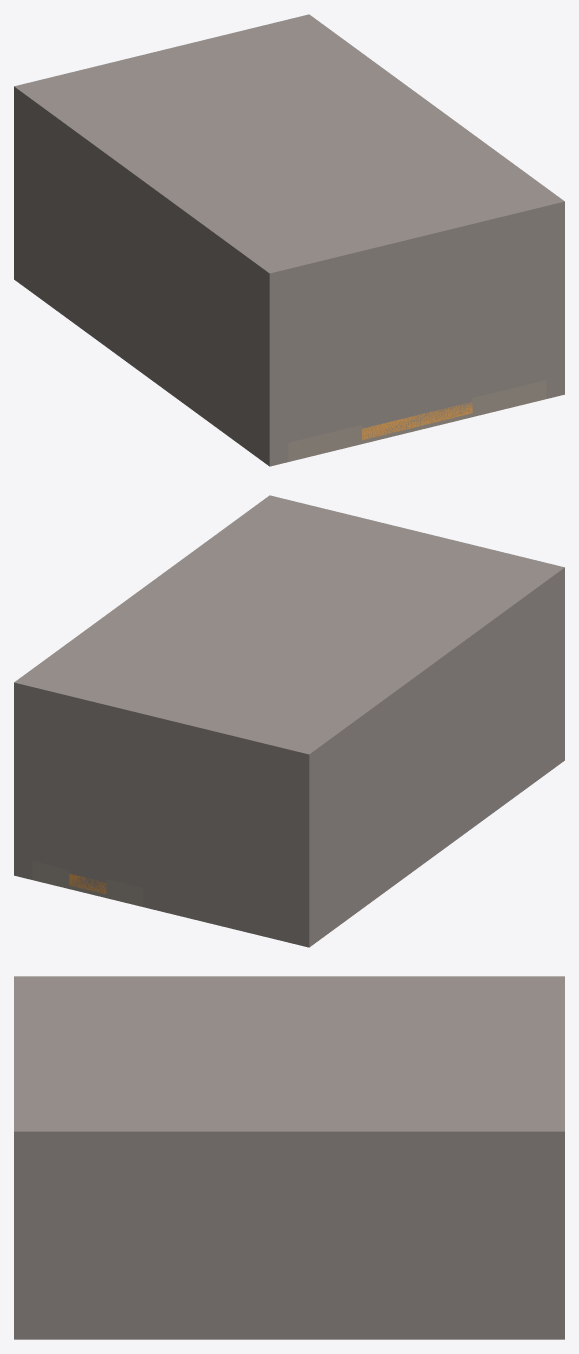
Rendered from river-narrows.glb.
3 renders of one model, top to bottom at view 1: azimuth 30°, elevation 25°; view 2: azimuth 150°, elevation 25°; view 3: azimuth 270°, elevation 25°, orthographic. The views are drawn at different scales.
Visible parts, largest first — view 1: rock_9, plug_river_south, rock_6, rock_8, rock_5, rock_3, rock_4, rock_2, rock_1, plug_river_south.001, cave-floor_2, cave-floor_7 (+2 smaller); view 2: rock_9, rock_6, rock_1, plug_stream_north, rock_4, rock_3, rock_5, rock_2, rock_7, cave-floor_1, cave-floor_2; view 3: rock_2, rock_9.
Boxes of the visible parts, <box> form: rock_9: <box>14,14,564,292</box>; plug_river_south: <box>288,244,546,442</box>; rock_6: <box>88,160,288,466</box>; rock_8: <box>288,225,546,307</box>; rock_5: <box>67,145,88,333</box>; rock_3: <box>24,114,45,302</box>; rock_4: <box>46,129,67,317</box>; rock_2: <box>546,221,564,398</box>; rock_1: <box>14,106,24,286</box>; plug_river_south.001: <box>362,398,472,439</box>; cave-floor_2: <box>509,380,546,407</box>; cave-floor_7: <box>472,389,509,416</box>; rock_9: <box>14,495,564,773</box>; rock_6: <box>384,587,564,892</box>; rock_1: <box>143,733,319,947</box>; plug_stream_north: <box>32,725,143,887</box>; rock_4: <box>341,735,362,923</box>; rock_3: <box>320,751,341,939</box>; rock_5: <box>362,719,383,907</box>; rock_2: <box>14,702,32,879</box>; rock_7: <box>32,706,143,752</box>; cave-floor_1: <box>106,879,143,906</box>; cave-floor_2: <box>32,861,69,888</box>; rock_2: <box>14,1152,564,1339</box>; rock_9: <box>14,976,564,1152</box>.
Size of the model in its own units: 8 by 5 by 12.
